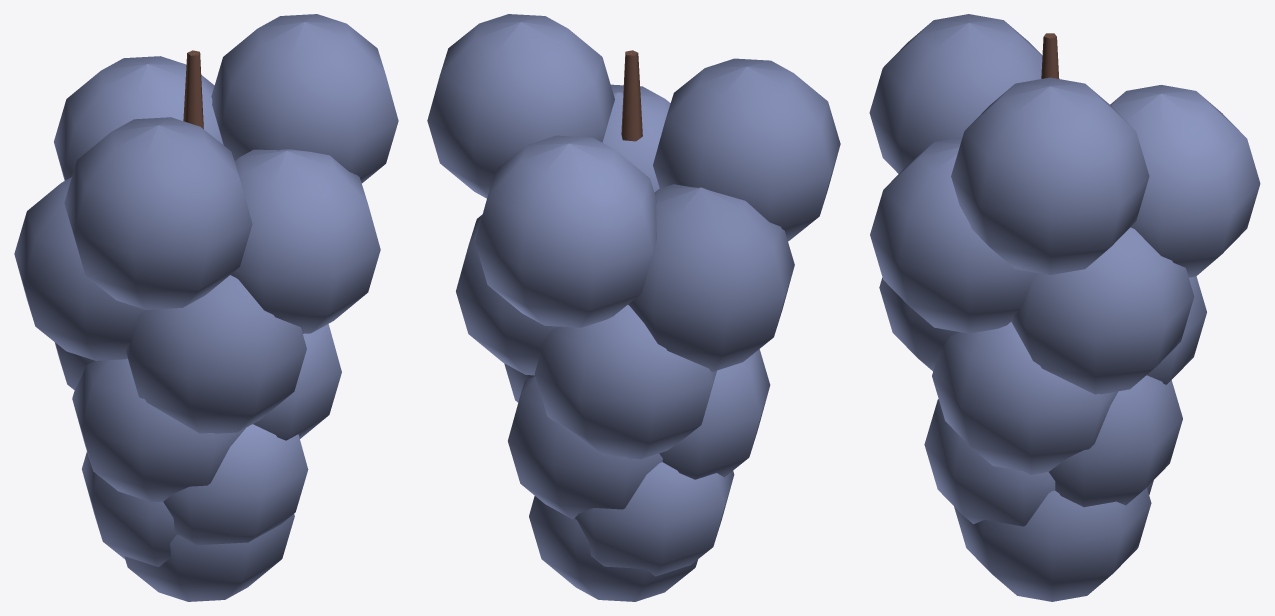
Rendered from fruit-grape-chilled.gltf.
3 renders of one model, left to right at view 1: azimuth 30°, elevation 25°; view 2: azimuth 150°, elevation 25°; view 3: azimuth 270°, elevation 25°, orthographic. The views are drawn at different scales.
Bounding box in the file's own units: 0.2843 × 0.4167 × 0.2647.
